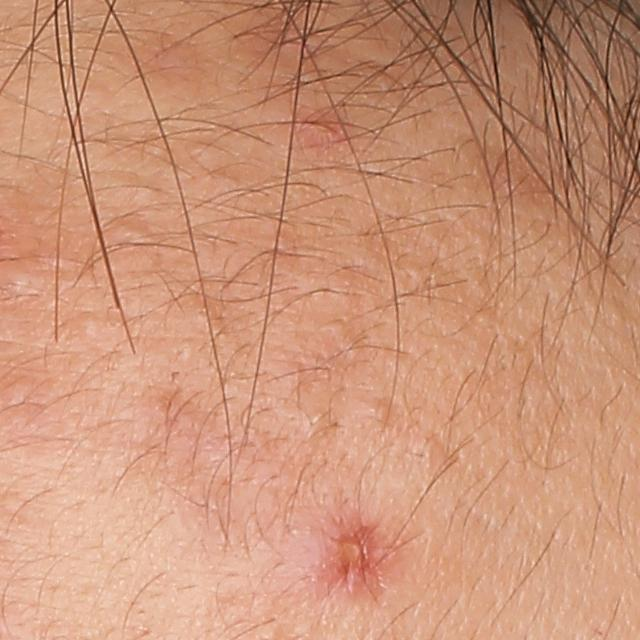comedo: (67, 308, 105, 339), (364, 394, 396, 422)
